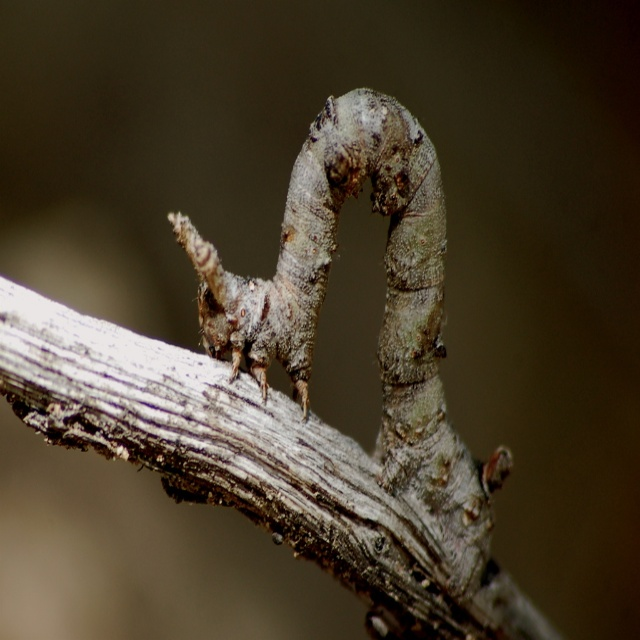Caterpillar: (169, 96, 512, 508)
